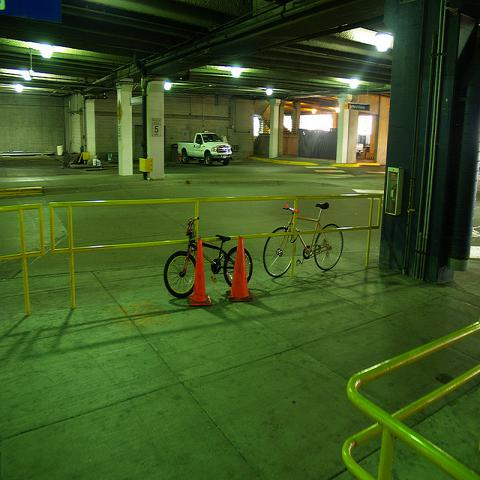truck: (177, 132, 232, 166)
